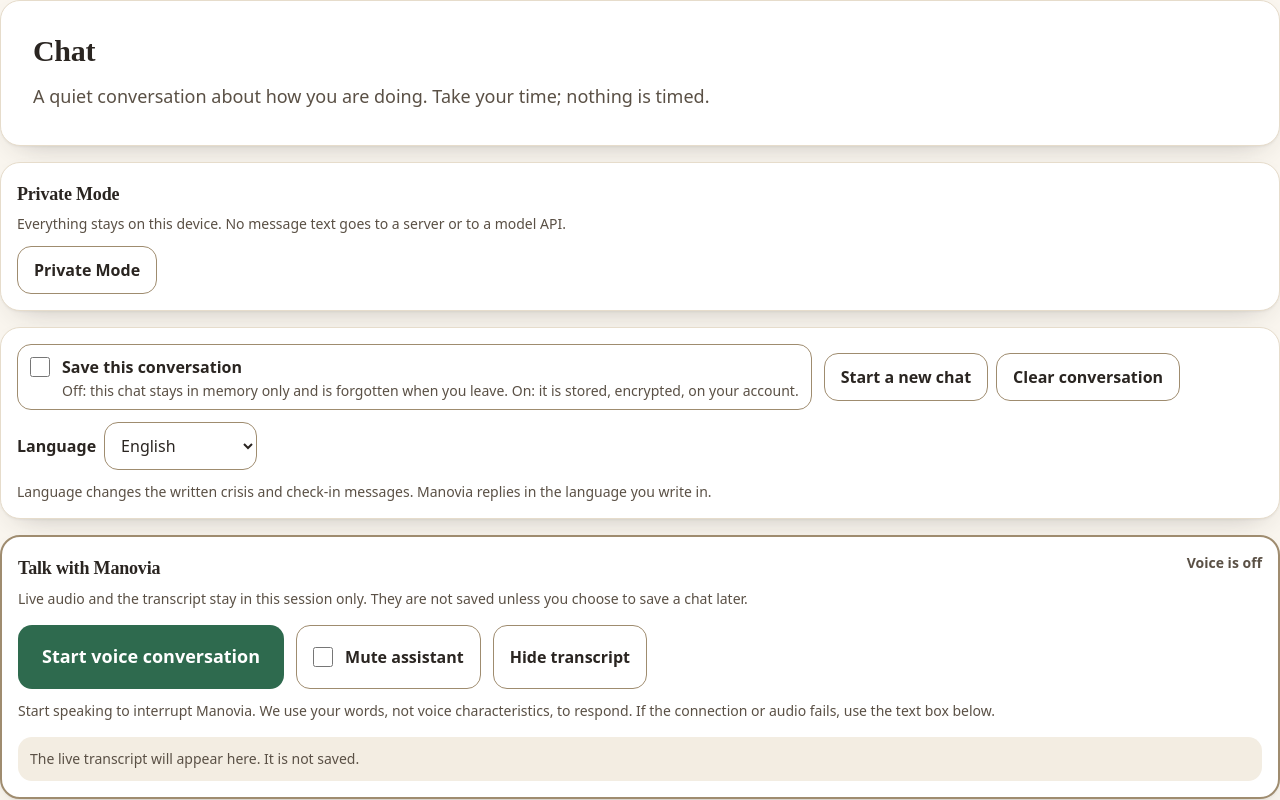
Scenario: the way into Private Mode › loads the panel when asked, and remembers that it was
The width and height of the screenshot is (1280, 800).
Click the button with test id "private-mode-open". click: x=87, y=270
box: left=17, top=246, right=157, bottom=294
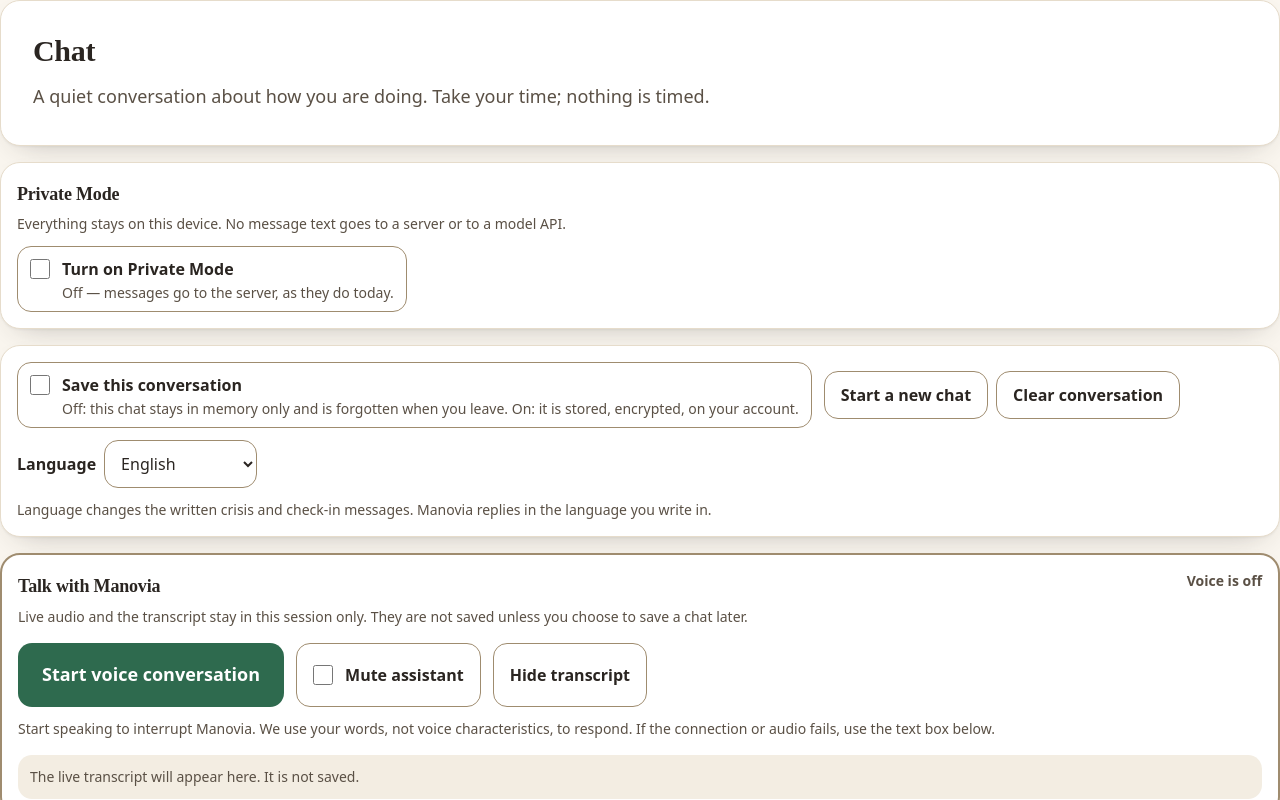
Check: the element with test id "private-mode-panel" is shown, box left=0, top=162, right=1279, bottom=329
Check: the element with test id "private-mode-entry" is gone
Check: the switch with test id "private-mode-toggle" is not checked, box left=30, top=259, right=50, bottom=279
